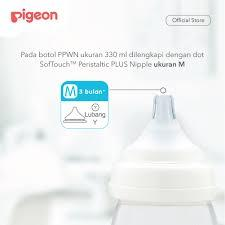BIODEGRADABLE: (115, 89, 217, 208)
